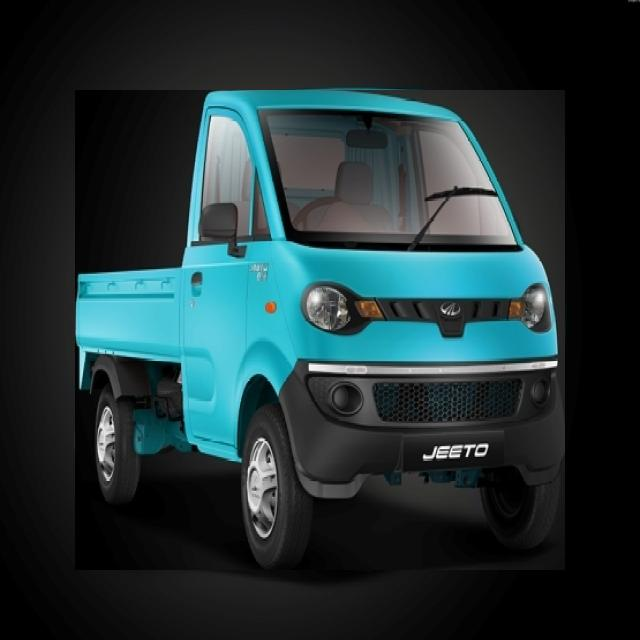truck: (75, 90, 565, 570)
